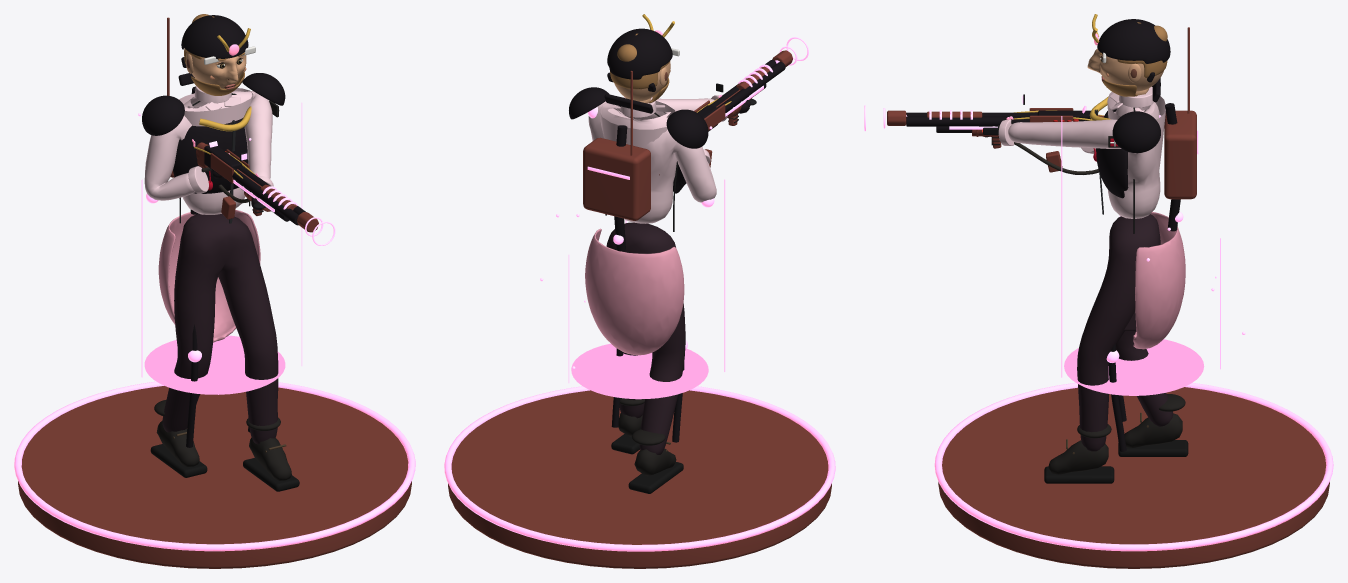
File: hagl_sakura.glb
The picture shows the model from 3 angles, left to right: view 1: azimuth 30°, elevation 25°; view 2: azimuth 150°, elevation 25°; view 3: azimuth 270°, elevation 25°; orthographic projection. The views are drawn at different scales.
Parts seen in each view (by area): view 1: fod_net, menneske_net, op4.001_net, op2.001_net, hoved_net, vaaben_net, op3.001_net, op4_net, op4.002_net, op2_net; view 2: fod_net, menneske_net, op4.001_net, op3_net, hoved_net, op2.001_net, op4_net, vaaben_net, op3.001_net, op4.002_net; view 3: fod_net, menneske_net, hoved_net, op4.001_net, op2.001_net, op3_net, vaaben_net, op4_net, op3.001_net, op2_net.
Boxes of the visible parts, left/top/right/bottom form: fod_net: left=14, top=381, right=415, bottom=568; menneske_net: left=144, top=86, right=299, bottom=491; op4.001_net: left=138, top=103, right=302, bottom=394; op2.001_net: left=142, top=73, right=285, bottom=193; hoved_net: left=178, top=14, right=255, bottom=95; vaaben_net: left=196, top=142, right=306, bottom=225; op3.001_net: left=209, top=141, right=318, bottom=232; op4_net: left=146, top=86, right=250, bottom=447; op4.002_net: left=233, top=180, right=335, bottom=245; op2_net: left=192, top=139, right=263, bottom=219; fod_net: left=444, top=386, right=835, bottom=568; menneske_net: left=585, top=95, right=756, bottom=493; op4.001_net: left=540, top=126, right=725, bottom=399; op3_net: left=583, top=70, right=650, bottom=220; hoved_net: left=604, top=14, right=679, bottom=113; op2.001_net: left=569, top=87, right=708, bottom=193; op4_net: left=588, top=106, right=714, bottom=442; vaaben_net: left=659, top=60, right=785, bottom=175; op3.001_net: left=694, top=50, right=792, bottom=130; op4.002_net: left=725, top=37, right=808, bottom=116; fod_net: left=934, top=382, right=1333, bottom=568; menneske_net: left=983, top=86, right=1188, bottom=483; hoved_net: left=1087, top=14, right=1170, bottom=102; op4.001_net: left=1061, top=116, right=1245, bottom=395; op2.001_net: left=1089, top=83, right=1160, bottom=198; op3_net: left=1164, top=27, right=1198, bottom=199; vaaben_net: left=906, top=110, right=1103, bottom=136; op4_net: left=1106, top=103, right=1183, bottom=451; op3.001_net: left=887, top=106, right=1086, bottom=125; op2_net: left=982, top=94, right=1103, bottom=172.
Size of the model in its own units: 1.94 by 2.5 by 2.28.
